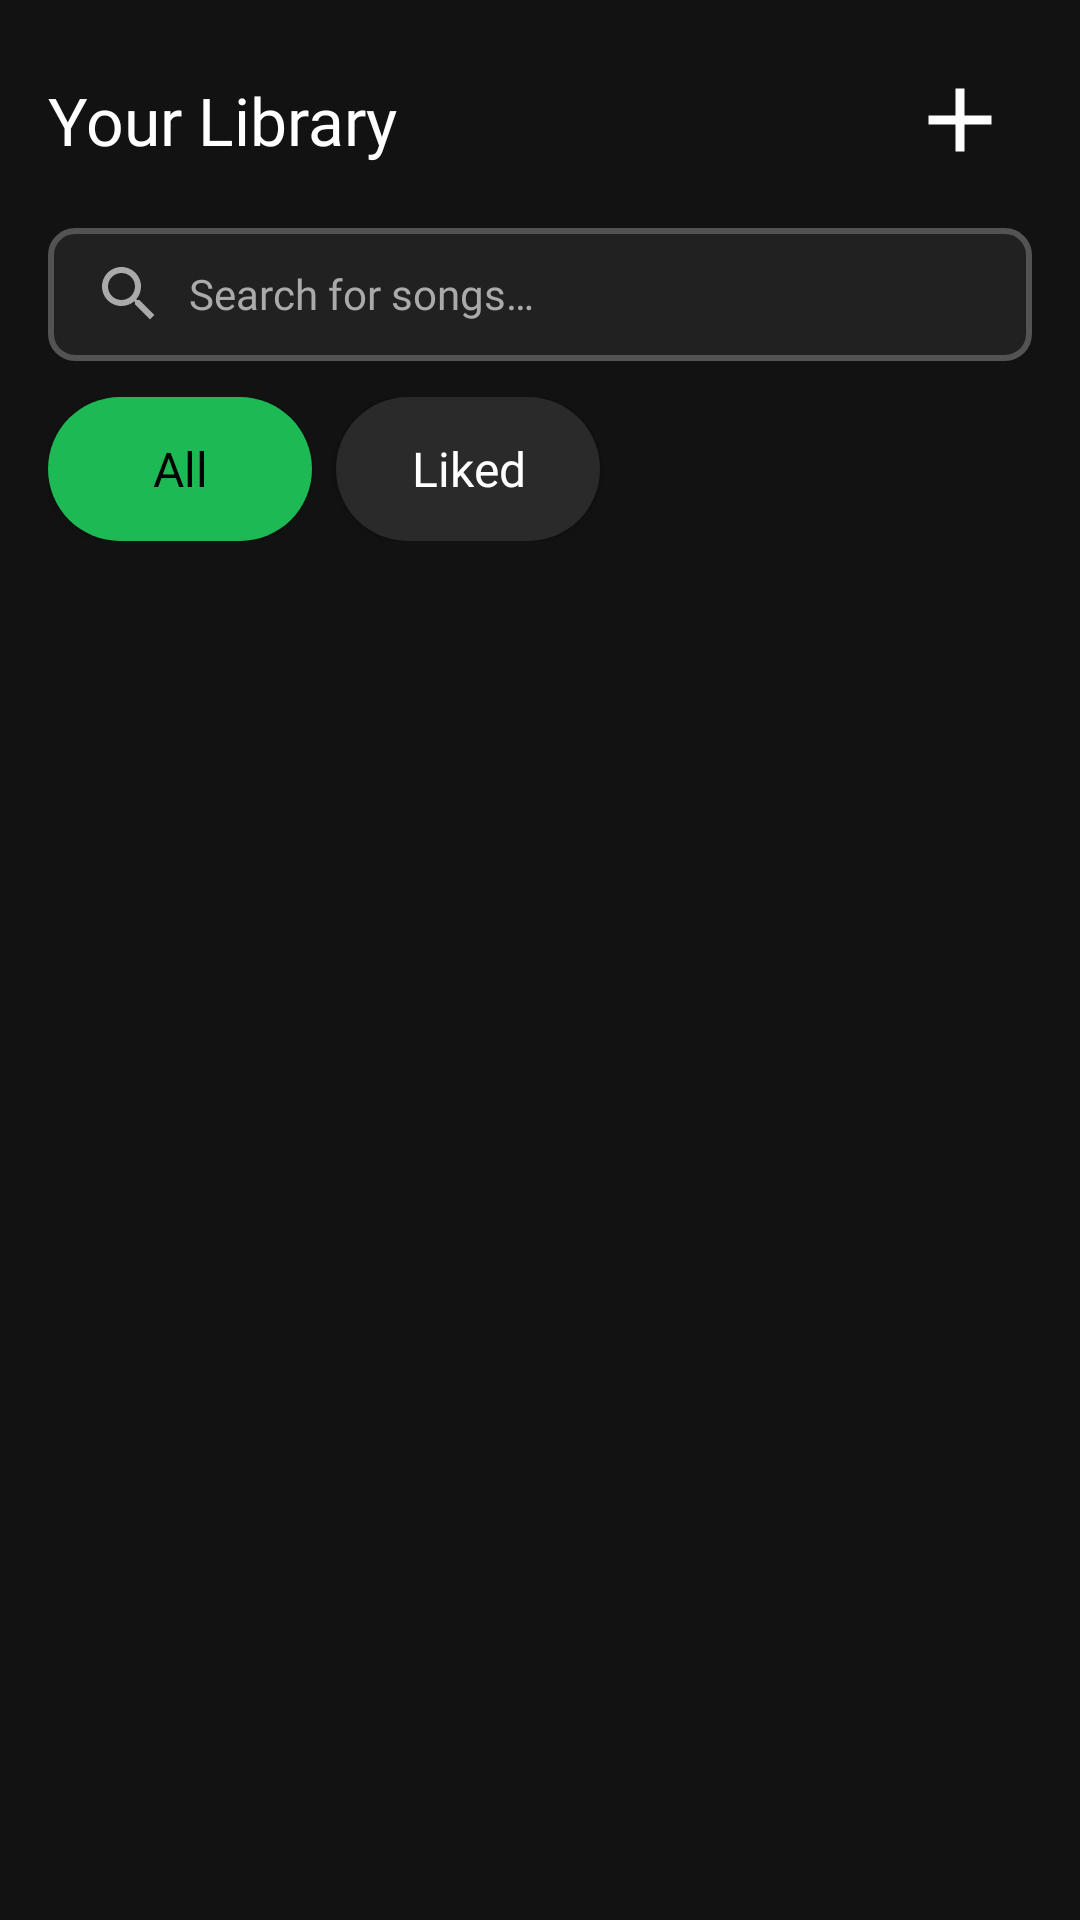

Icons on this 1080w x 1920h Android screen, each with its box as region(x1, y1, x2, y2):
Add item: region(928, 88, 992, 152)
